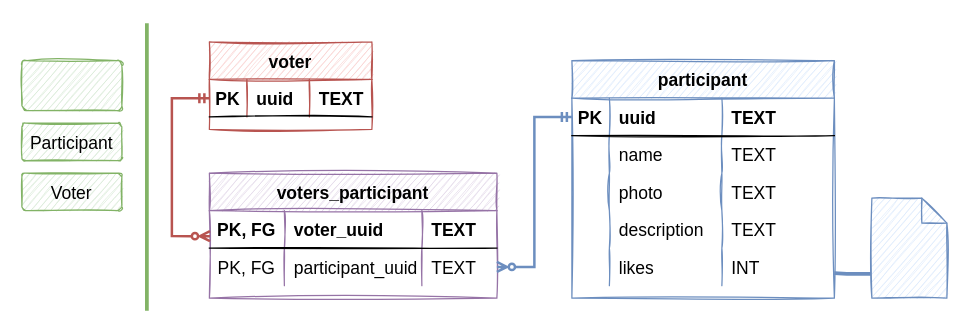
Some shapes in this 969 by 335 pixel diagram are drawn without their labels. The shapes that lost their labels are listed below. From the top down, each one's centre as x and y in pixels, then its label:
point (71, 85): Entities
point (909, 247): Default: 0
